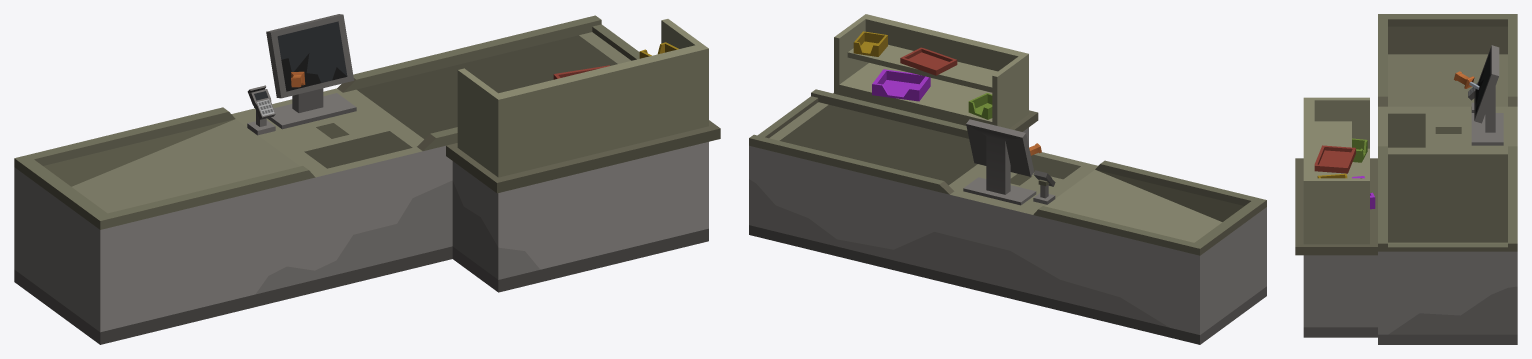
The model's file is AI_Prop_CheckoutCounter.fbx.
3 renders of one model, left to right at view 1: azimuth 30°, elevation 25°; view 2: azimuth 150°, elevation 25°; view 3: azimuth 270°, elevation 25°, orthographic. The views are drawn at different scales.
Parts seen in each view (by area): view 1: AI_Prop_CheckoutCounter; view 2: AI_Prop_CheckoutCounter; view 3: AI_Prop_CheckoutCounter.
Part boxes in pixels (x1,y1,x2,y2): AI_Prop_CheckoutCounter: (14, 14, 720, 344); AI_Prop_CheckoutCounter: (749, 14, 1266, 344); AI_Prop_CheckoutCounter: (1295, 14, 1517, 344).
Size of the model in its own units: 7.81 by 2.6 by 3.19.
